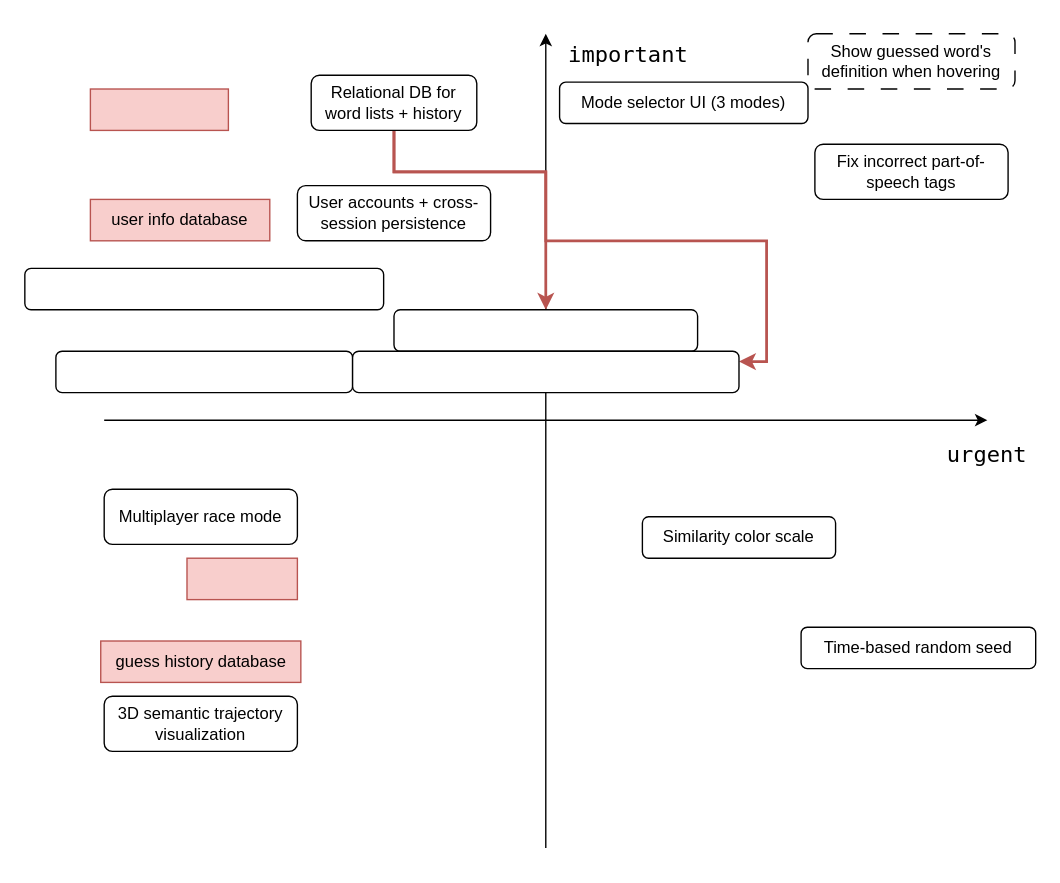
Image size: 1060x883. Some labels were removed from this diagram. Each missing label, with the box of its shape:
AI post-round summary(Qwen API): (55, 350, 353, 393)
Mode 2: Associative hints, free-type: (393, 308, 698, 351)
Mode 3: Lower-level hint → guess higher-level: (351, 350, 739, 393)
real-time?: (186, 557, 297, 600)
Stats dashboard (daily/weekly/monthly): (23, 267, 384, 310)
word database: (89, 88, 228, 130)
